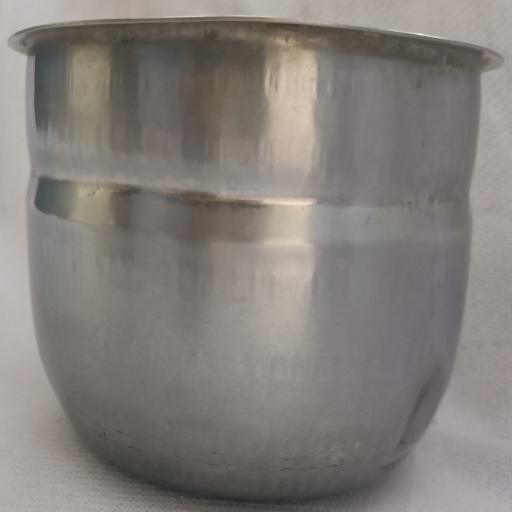vessel: (10, 18, 500, 500)
